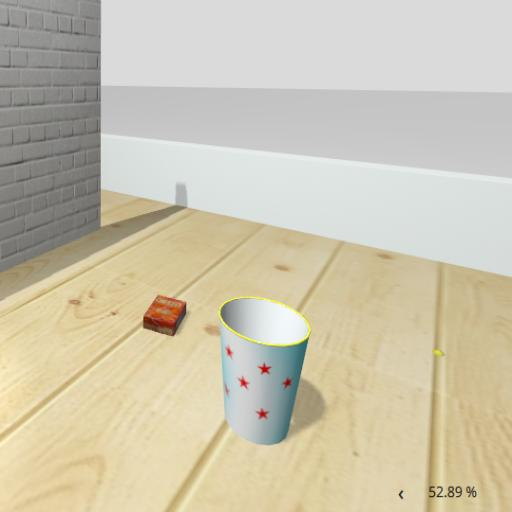BOX_R: (125, 265, 194, 359)
Trash: (210, 292, 320, 461)
